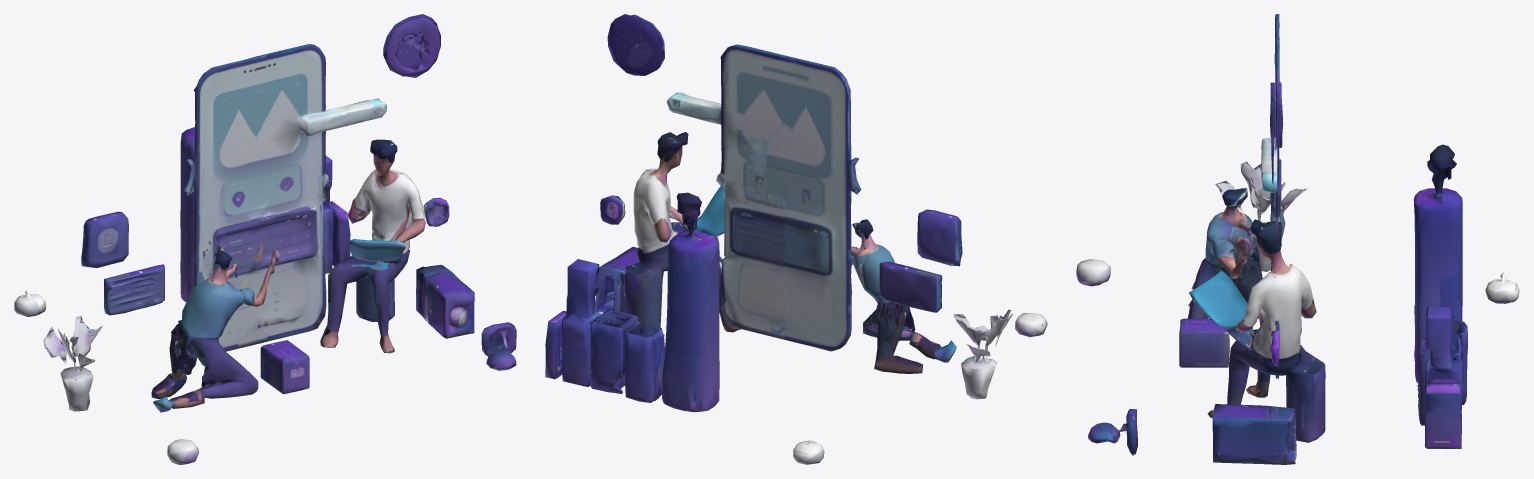
Rendered from mobile_app.glb.
3 views of the same model, side by side, from view 1: azimuth 30°, elevation 25°; view 2: azimuth 150°, elevation 25°; view 3: azimuth 270°, elevation 25° (orthographic). The views are drawn at different scales.
Visible parts, largest first — view 1: Mesh1; view 2: Mesh1; view 3: Mesh1.
Part boxes in pixels (x1,y1,x2,y2): Mesh1: [14, 14, 516, 464]; Mesh1: [545, 14, 1047, 464]; Mesh1: [1076, 14, 1519, 464].
Size of the model in its own units: 1.9 by 1.38 by 1.69.
1 material, 1 textured.
